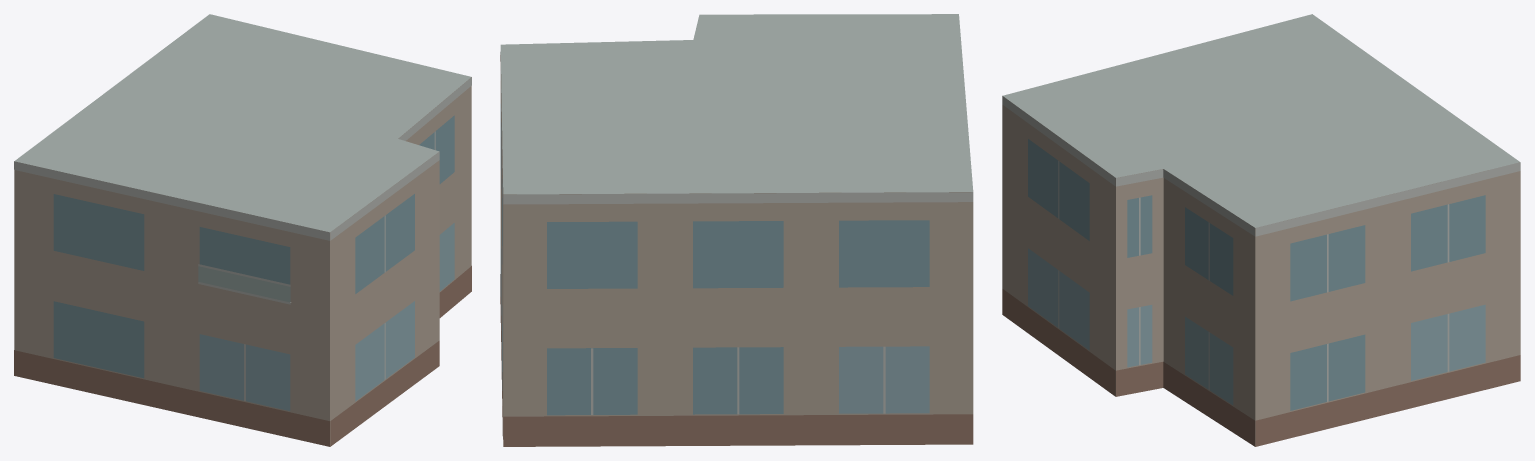
The model's file is survey-upis-32765639.glb.
3 renders of one model, left to right at view 1: azimuth 30°, elevation 25°; view 2: azimuth 150°, elevation 25°; view 3: azimuth 270°, elevation 25°, orthographic. The views are drawn at different scales.
Parts seen in each view (by area): view 1: survey-upis-32765639.tmp; view 2: survey-upis-32765639.tmp; view 3: survey-upis-32765639.tmp.
Boxes of the visible parts, x1,y1,x2,y2 form: survey-upis-32765639.tmp: (14,14,471,446); survey-upis-32765639.tmp: (500,14,973,446); survey-upis-32765639.tmp: (1002,14,1520,446).
Bounding box in the file's own units: 12.8 × 6.1 × 13.09.
